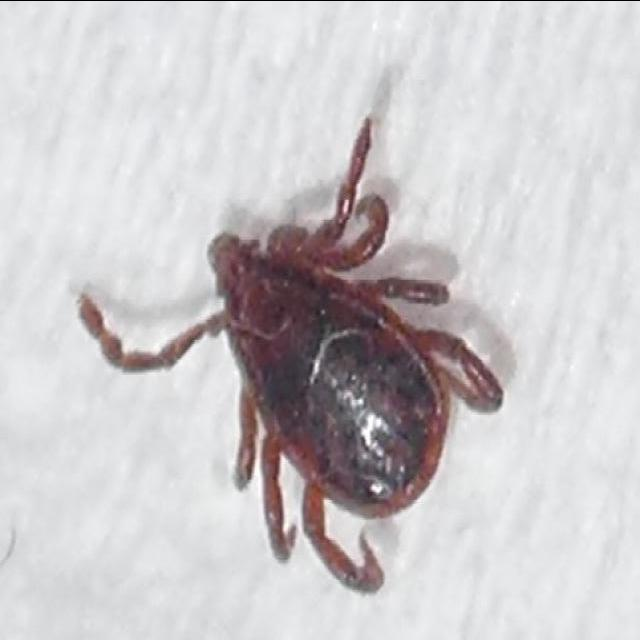Rhipicephalus Sanguineus-M: (74, 117, 503, 595)
